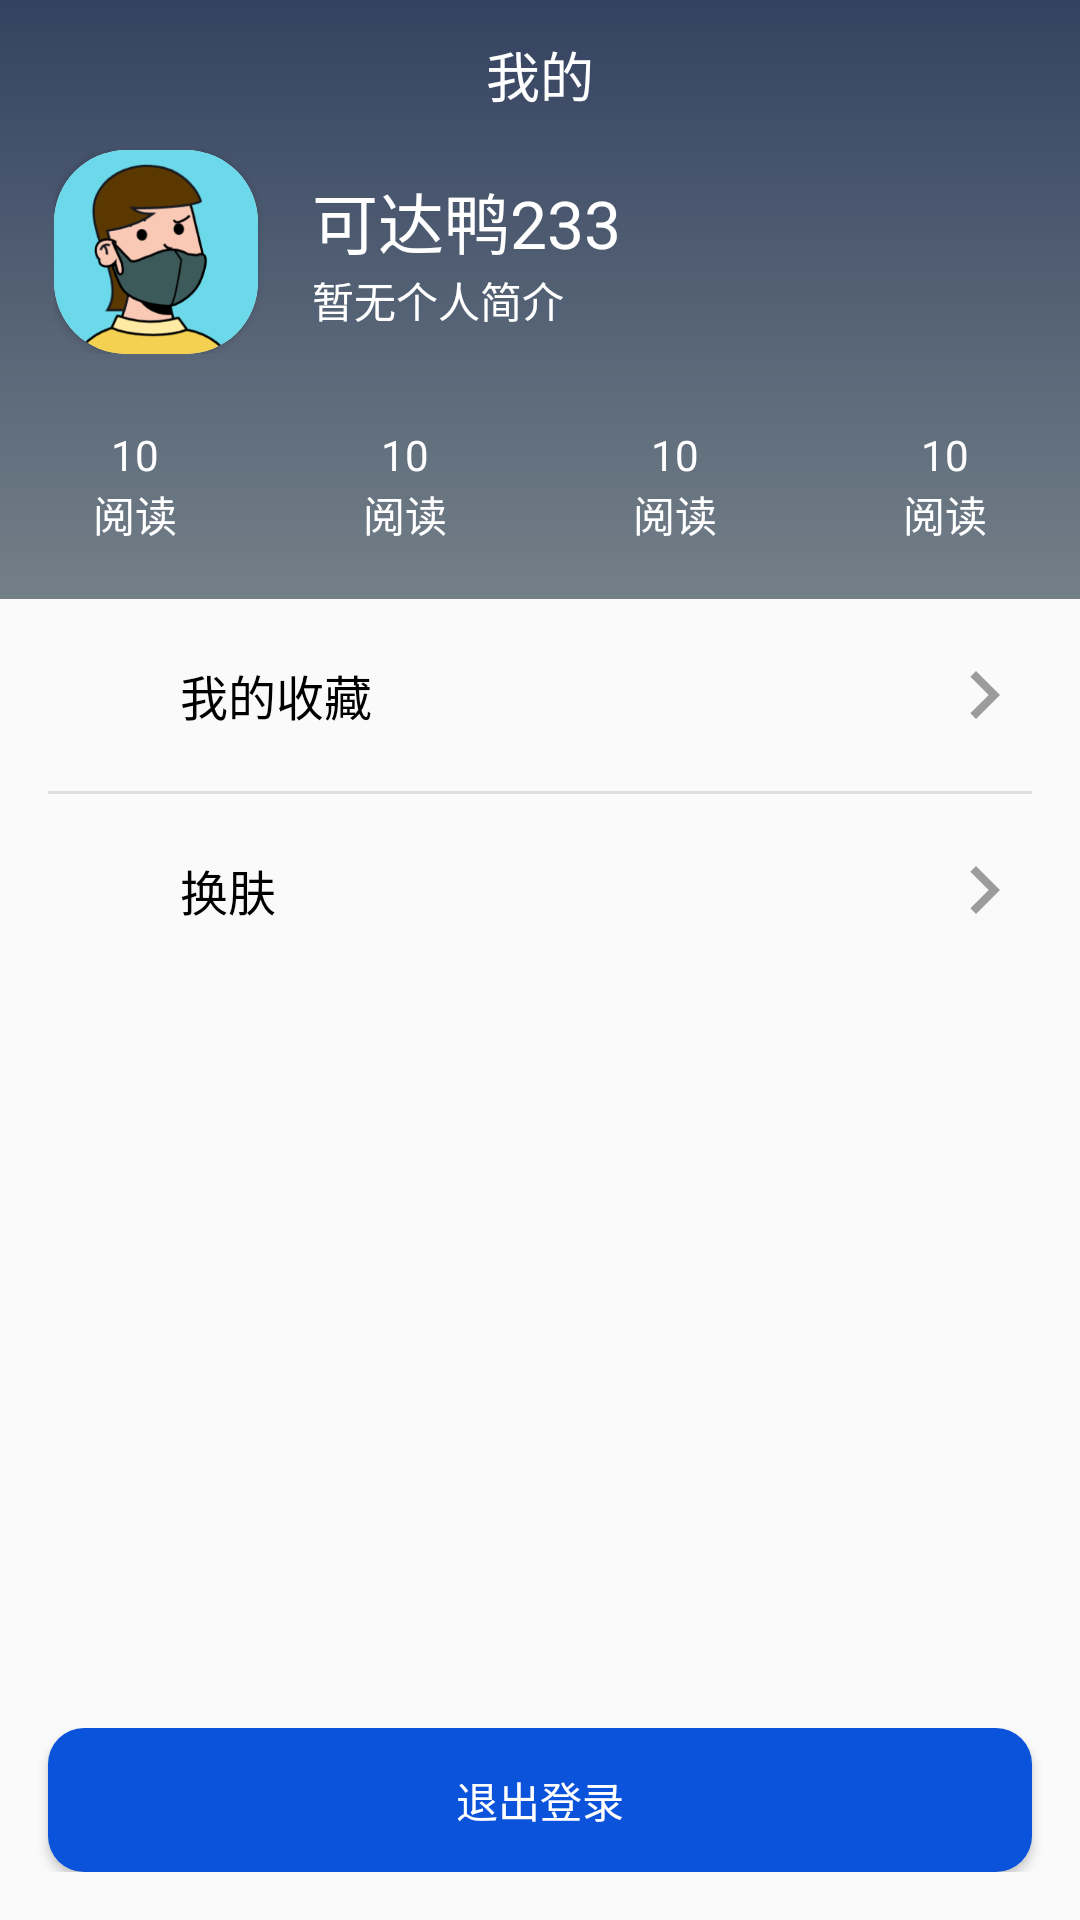

Named icons in this screenshot (1080 x 1920) and their bounding boxes, (x1, y1, x2, y2):
arrow right: (970, 671, 1000, 719), (970, 866, 1000, 914)
head: (54, 150, 258, 354)
